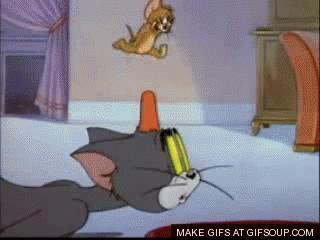jerry: (111, 2, 177, 60)
